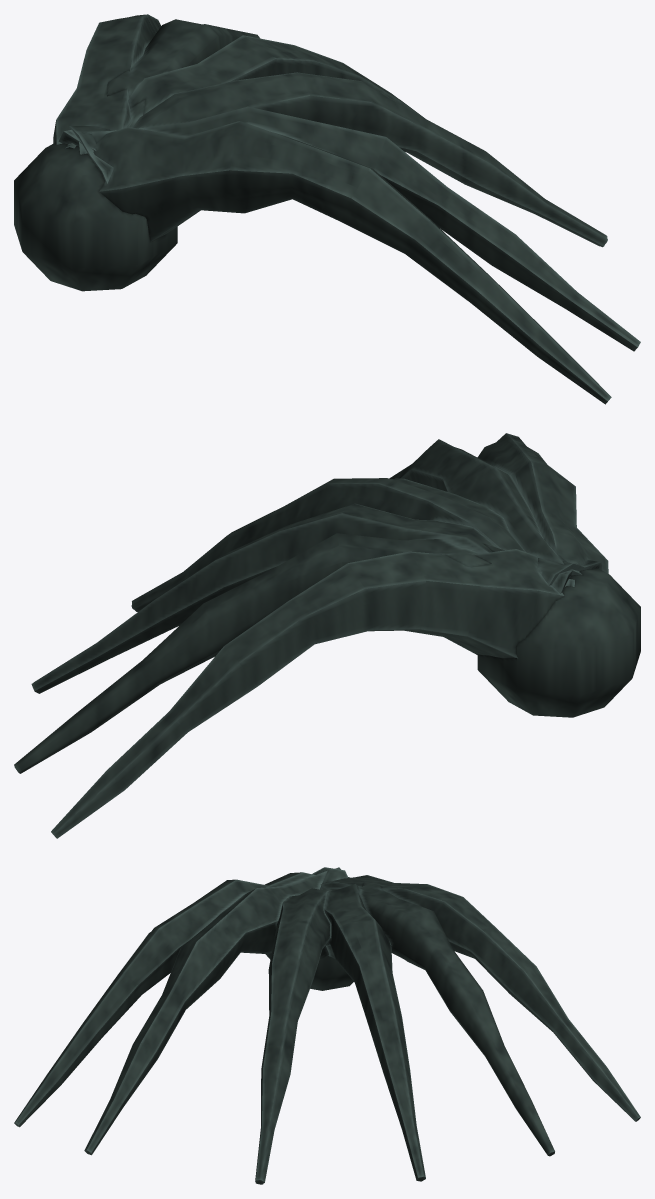
Rendered from underworld-flora-blackwater-root-fan.glb.
3 views of the same model, one above another, from view 1: azimuth 30°, elevation 25°; view 2: azimuth 150°, elevation 25°; view 3: azimuth 270°, elevation 25° (orthographic). The views are drawn at different scales.
Visible parts, largest first — view 1: roots, knot; view 2: roots, knot; view 3: roots, knot.
Part boxes in pixels (x1,y1,x2,y2): roots: [53, 14, 640, 404]; knot: [14, 142, 177, 291]; roots: [14, 433, 608, 838]; knot: [477, 568, 640, 717]; roots: [14, 867, 640, 1184]; knot: [265, 877, 353, 990].
Bounding box in the file's own units: 1.27 × 0.5122 × 1.72.
Materials: 1 (1 with a texture image).
